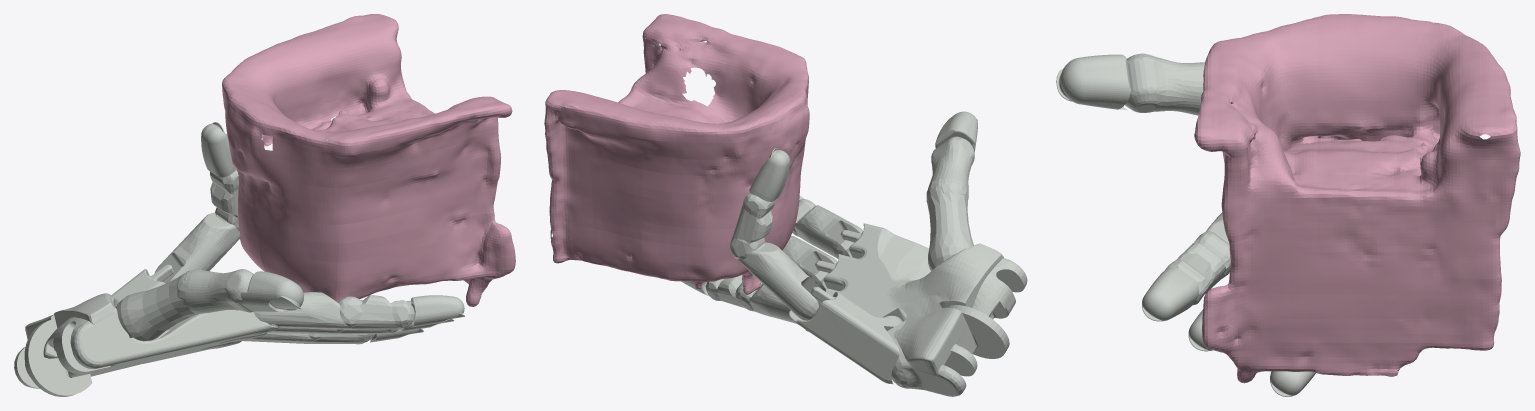
3 views of the same model, side by side, from view 1: azimuth 30°, elevation 25°; view 2: azimuth 150°, elevation 25°; view 3: azimuth 270°, elevation 25° (orthographic). The views are drawn at different scales.
Visible parts, largest first — view 1: world, hand; view 2: world, hand; view 3: world, hand.
Boxes of the visible parts, <box> form: world: <box>222,14,515,306</box>; hand: <box>14,122,464,396</box>; world: <box>544,14,809,294</box>; hand: <box>681,111,1027,396</box>; world: <box>1194,14,1520,383</box>; hand: <box>1056,53,1315,396</box>.
Size of the model in its own units: 0.247 by 0.1384 by 0.1852.
